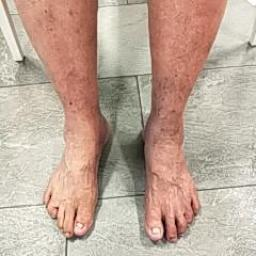Dorsal View -Both Feet-: (29, 85, 211, 255)
